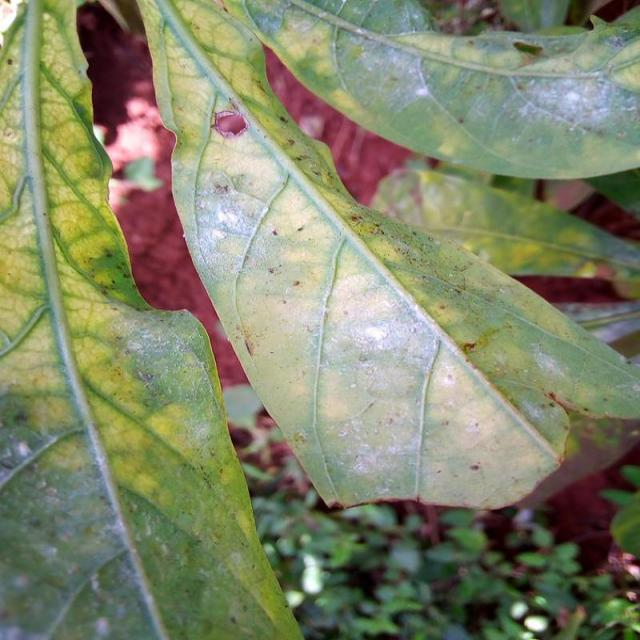cassava leaf: (134, 0, 638, 513), (0, 0, 305, 638), (232, 0, 638, 181)
